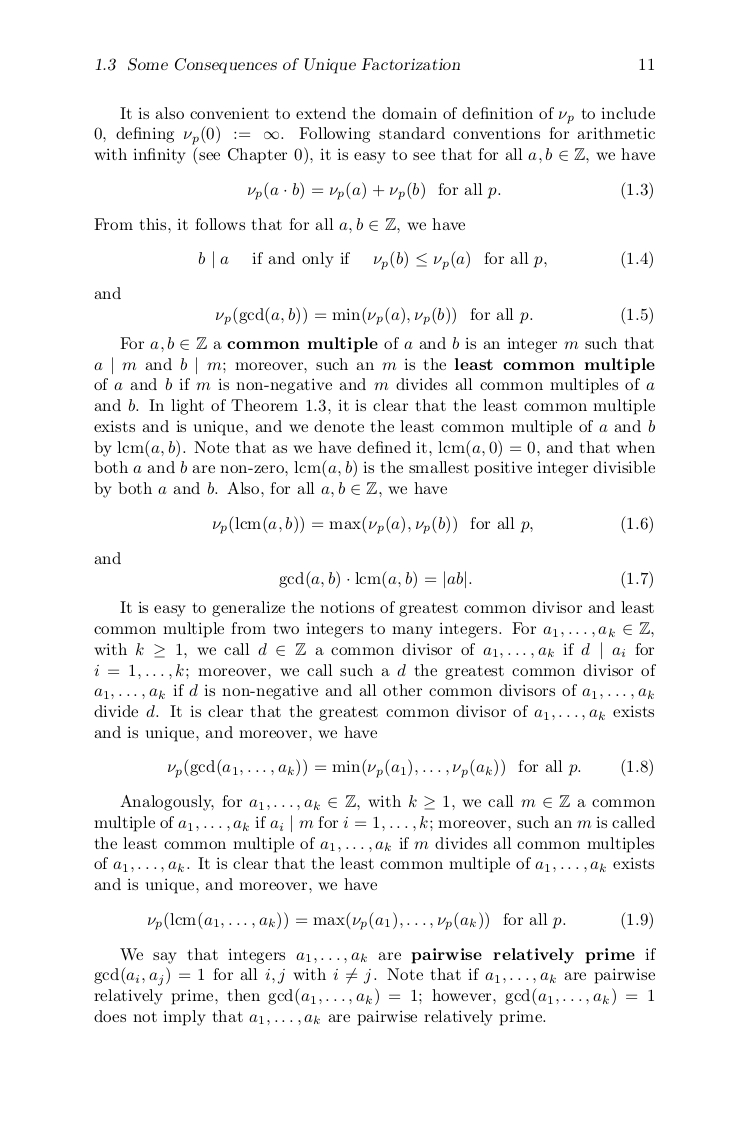formula: (168, 758, 652, 778), (148, 911, 652, 930), (198, 250, 652, 270), (213, 515, 652, 534), (216, 306, 652, 325), (248, 181, 652, 200), (279, 570, 652, 589)
